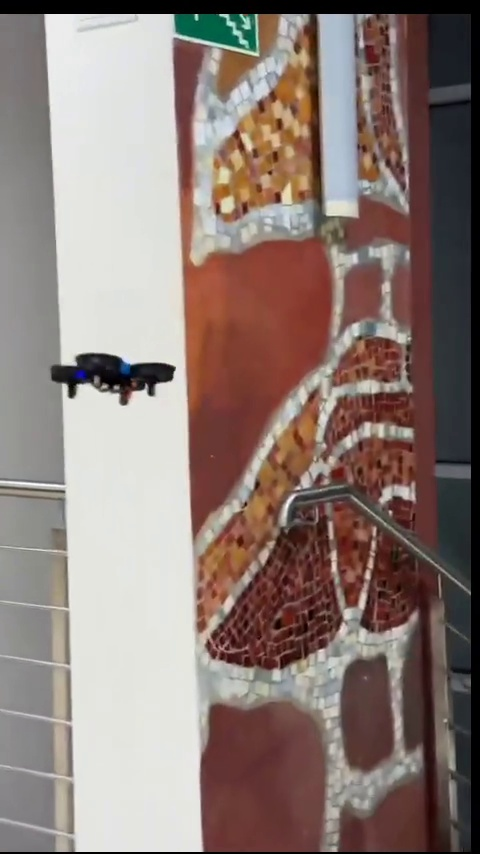drone: (54, 351, 174, 403)
